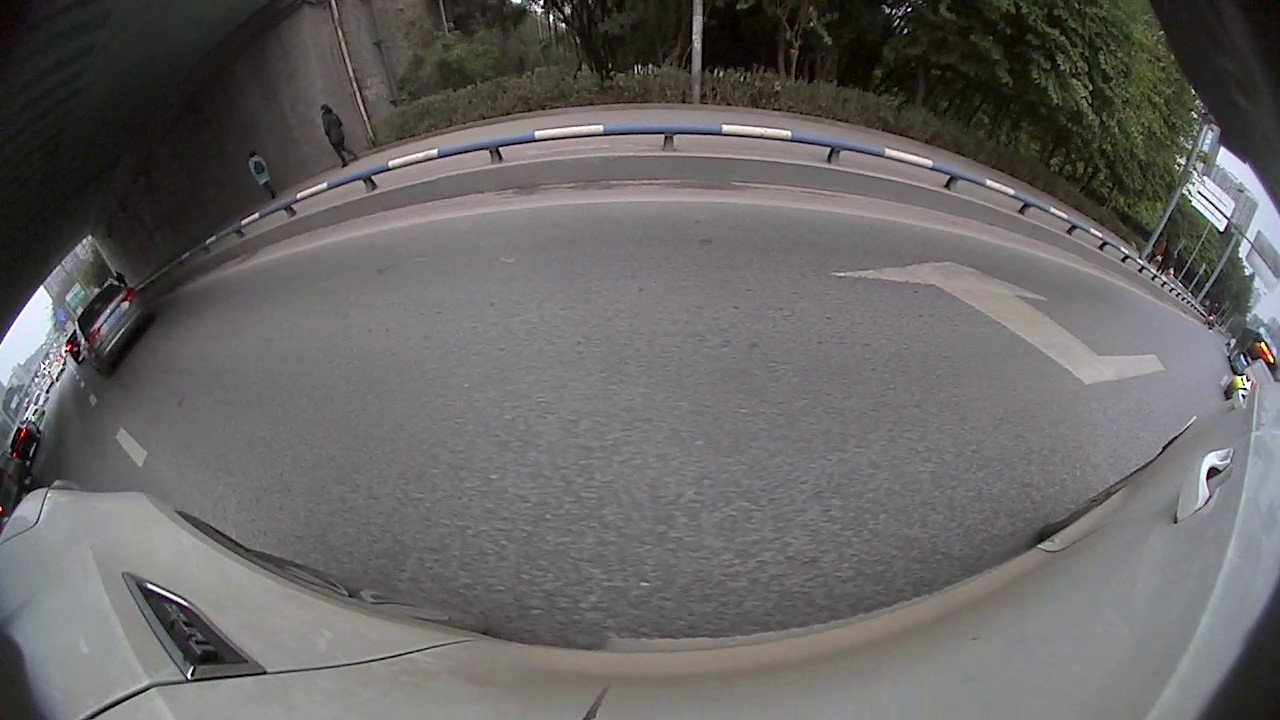bus: (1227, 323, 1279, 388)
car: (74, 282, 156, 379), (1223, 359, 1277, 407), (9, 419, 43, 463)
person: (321, 103, 339, 166), (248, 148, 268, 202)
